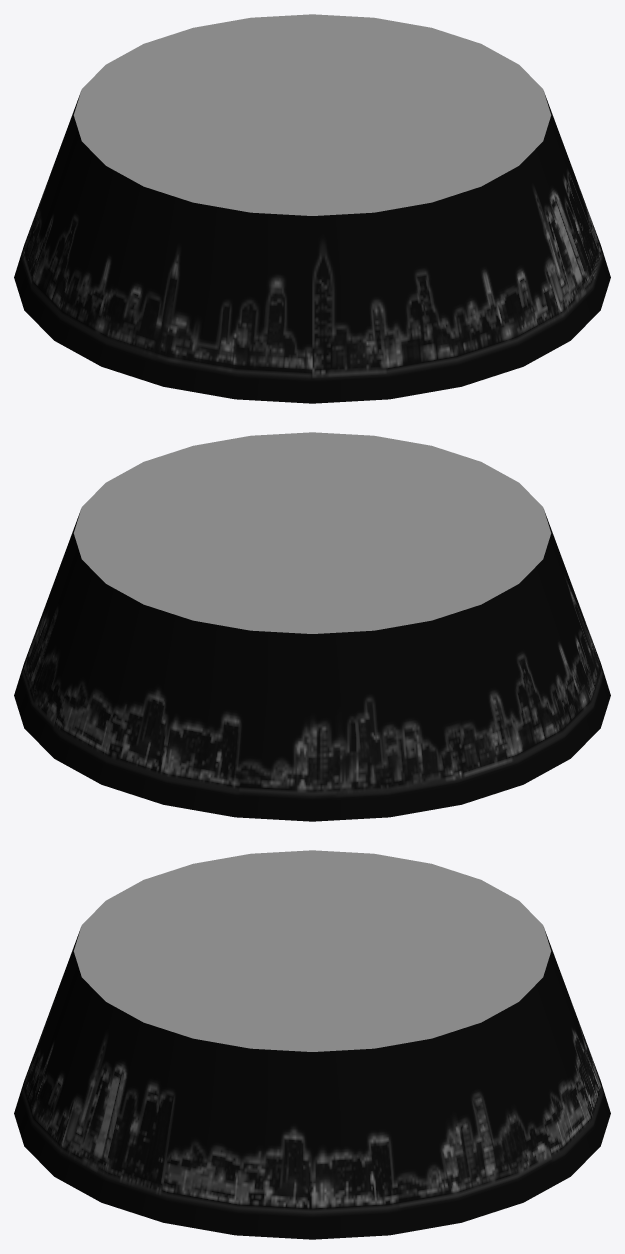
The model's file is SkyCylinder3.FBX.
The picture shows the model from 3 angles, top to bottom: view 1: azimuth 30°, elevation 25°; view 2: azimuth 150°, elevation 25°; view 3: azimuth 270°, elevation 25°; orthographic projection.
Visible parts, largest first — view 1: Side, top; view 2: Side, top; view 3: Side, top.
Part boxes in pixels (<box>): Side: <box>14,92,610,403</box>; top: <box>73,14,551,215</box>; Side: <box>14,510,610,821</box>; top: <box>73,432,551,633</box>; Side: <box>14,928,610,1239</box>; top: <box>73,850,551,1051</box>.
Bounding box in the file's own units: 30 × 9 × 30.
